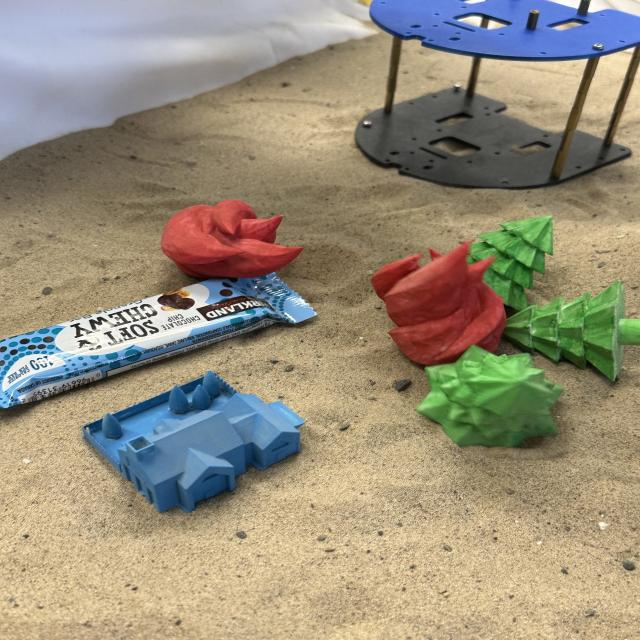fire: (369, 239, 509, 367), (163, 200, 306, 278)
house: (80, 369, 306, 514)
tree: (417, 345, 566, 449), (507, 281, 640, 382), (465, 215, 556, 309)
